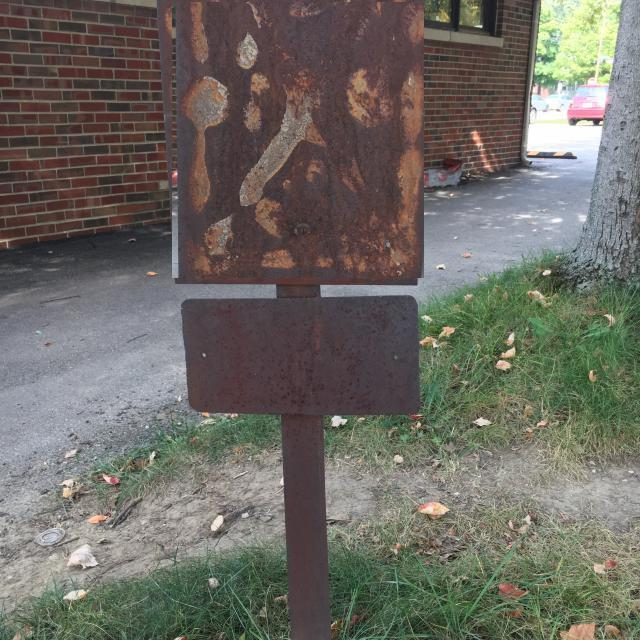Corrosion: (159, 0, 424, 640), (173, 0, 423, 284)
